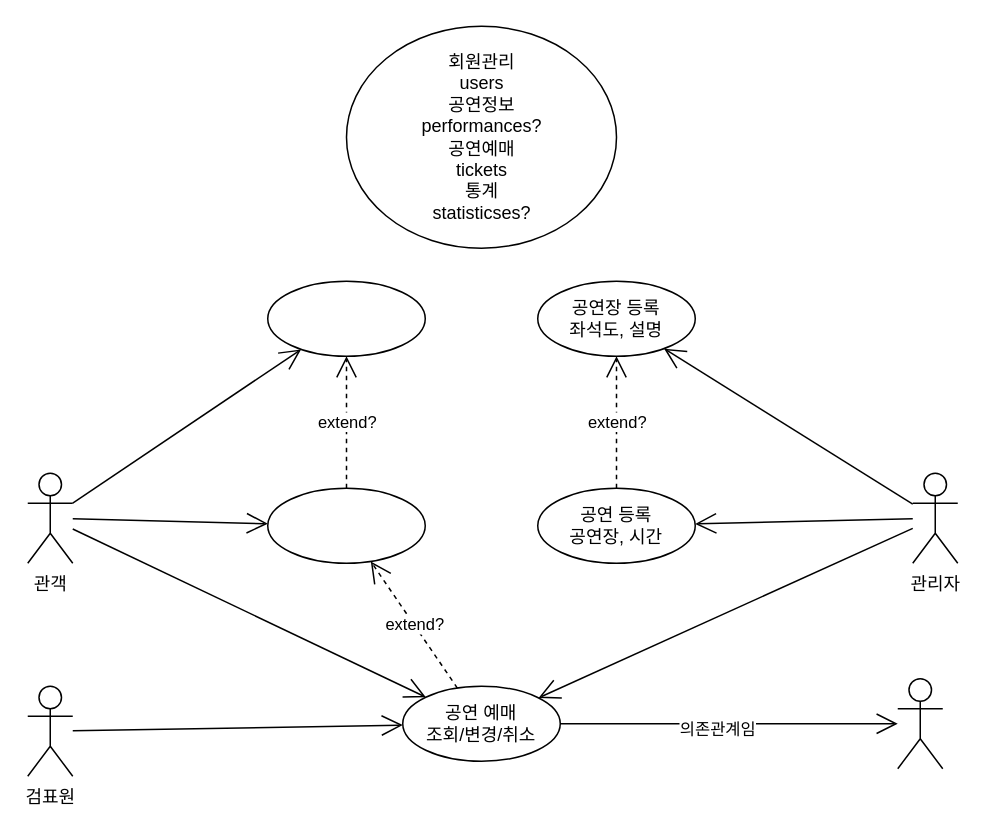
Image size: 987x834. Some labels were removed from this diagram. Each missing label, with the centre of its shape:
"결제시스템" goes at [919,723].
"공연 조회 설명, 시간, 관람 후기" goes at [345,525].
"통계 사용자선호장르 주간순위" goes at [345,318].
